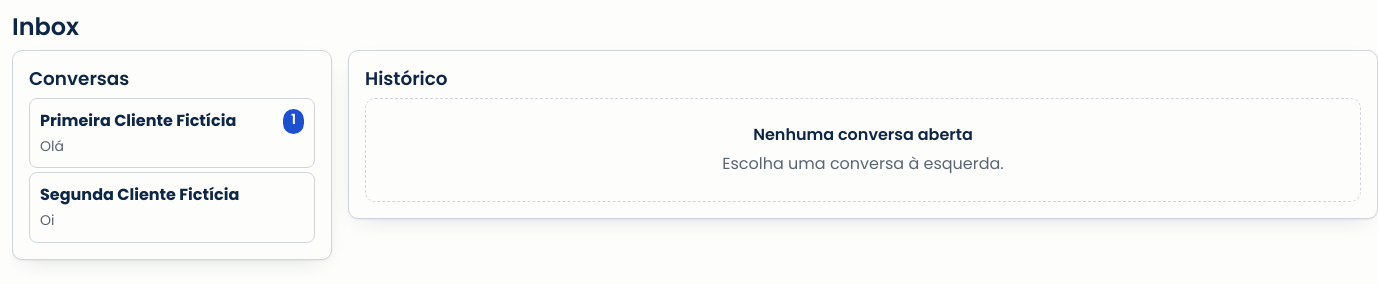
Test: F-05 — corrida ao trocar de conversa no inbox › a resposta lenta da conversa anterior não sobrescreve a conversa aberta agora
Click the button "Primeira Cliente Fictícia 1 Olá" at (172, 133), box [29,98,315,168]
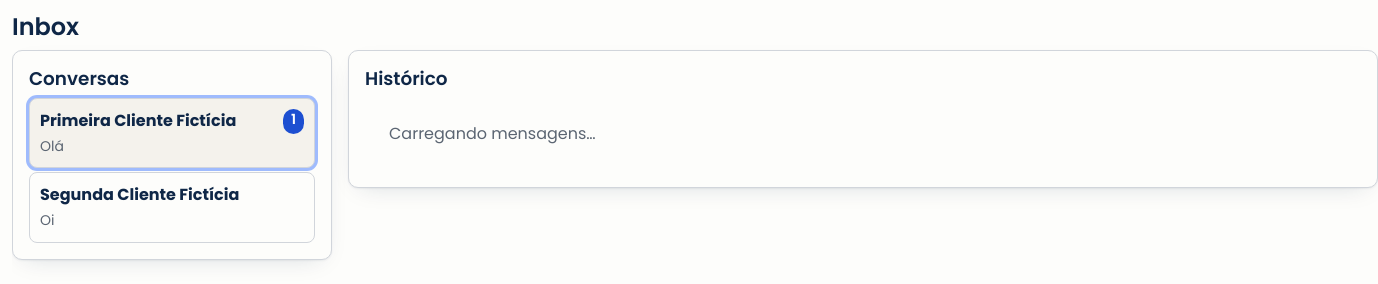
Click the button "Segunda Cliente Fictícia Oi" at (172, 208), box [29,172,315,243]
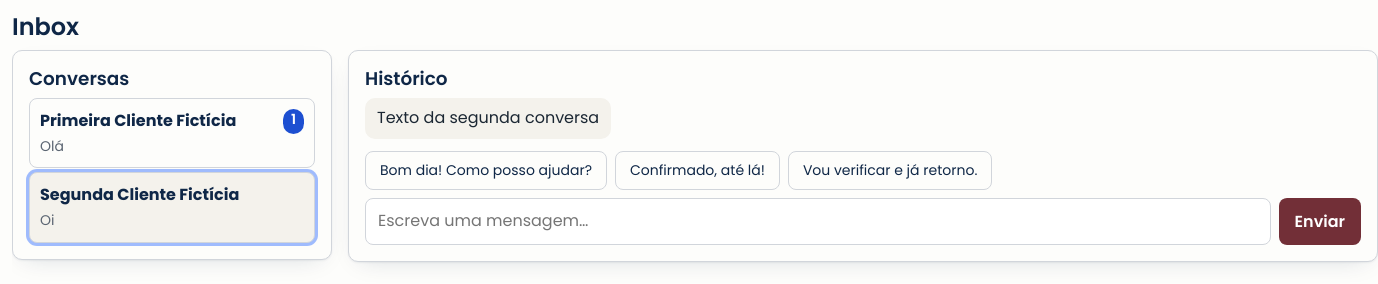
expect the text "Texto da segunda conversa" is shown: met, box [377,106,599,131]
